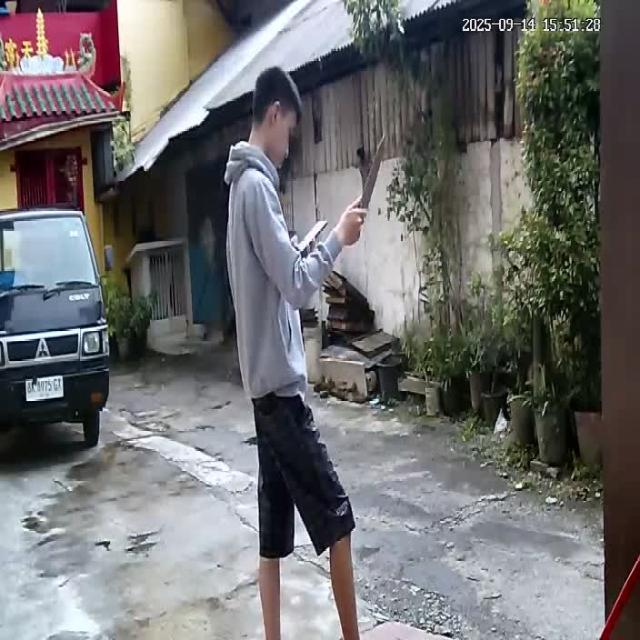senjata_tajam: (357, 132, 388, 212)
